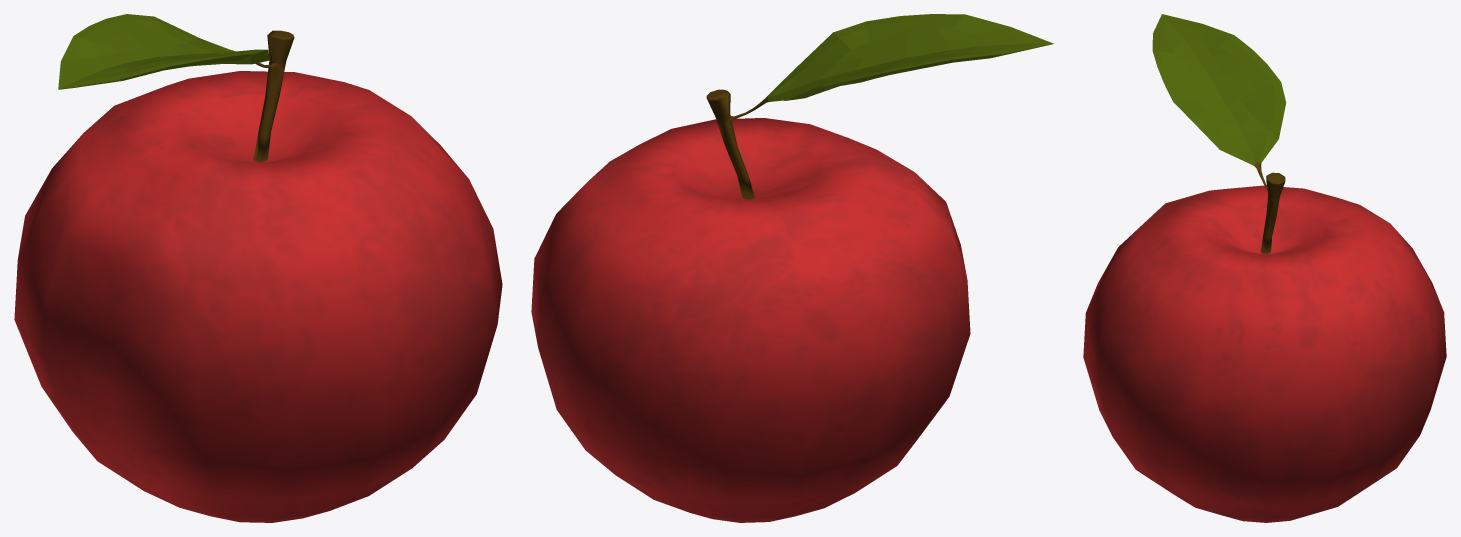
The model's file is Parent_Run_Apple.fbx.
3 renders of one model, left to right at view 1: azimuth 30°, elevation 25°; view 2: azimuth 150°, elevation 25°; view 3: azimuth 270°, elevation 25°, orthographic. The views are drawn at different scales.
Parts seen in each view (by area): view 1: Apple; view 2: Apple; view 3: Apple.
Part boxes in pixels (box(x1,y1,x2,y2)): Apple: box(14, 14, 502, 522); Apple: box(531, 14, 1053, 522); Apple: box(1083, 14, 1446, 522).
Size of the model in its own units: 240 by 246 by 209.
